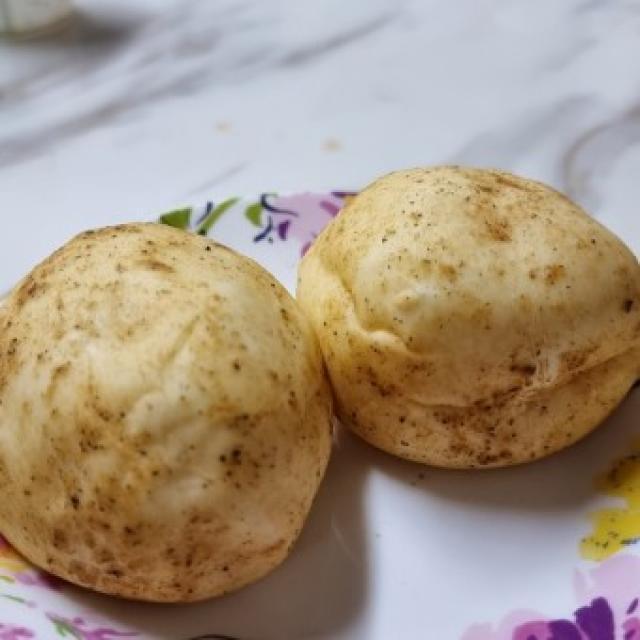potato: (0, 218, 329, 604), (297, 164, 640, 472)
